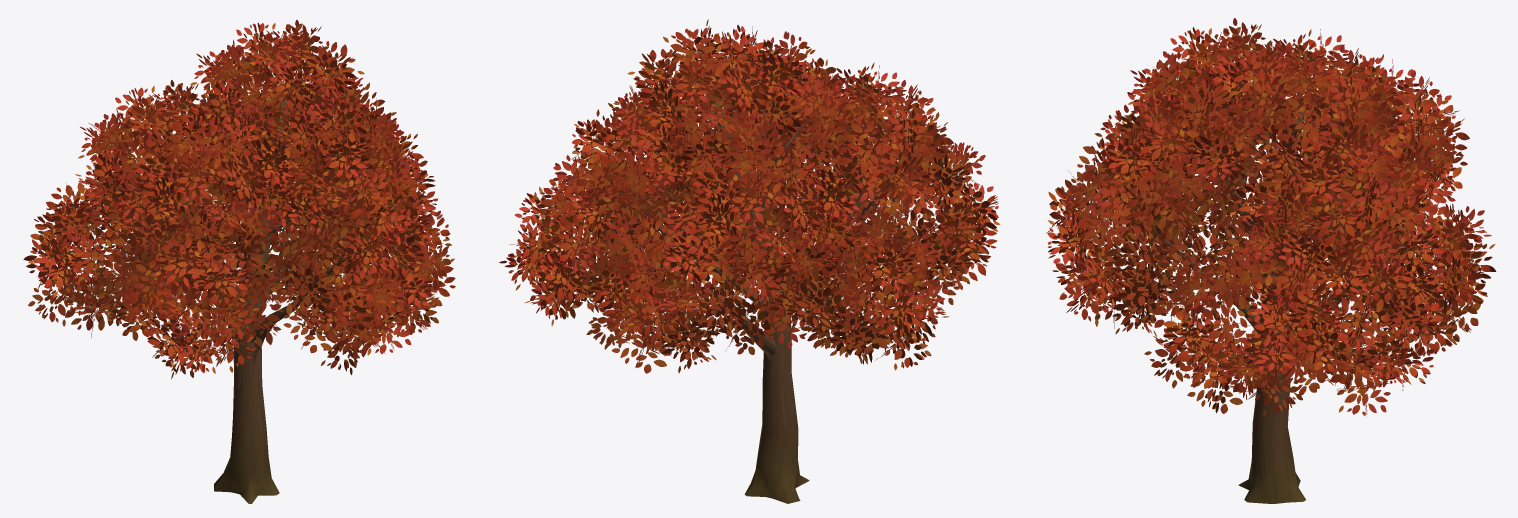
Rendered from FSF_Tree_001.FBX.
The picture shows the model from 3 angles, left to right: view 1: azimuth 30°, elevation 25°; view 2: azimuth 150°, elevation 25°; view 3: azimuth 270°, elevation 25°; orthographic projection. The views are drawn at different scales.
Parts seen in each view (by area): view 1: FSF_leaves_001, FSF_trunk_001; view 2: FSF_leaves_001, FSF_trunk_001; view 3: FSF_leaves_001, FSF_trunk_001.
Boxes of the visible parts, x1,y1,x2,y2 form: FSF_leaves_001: (23, 20, 455, 378); FSF_trunk_001: (131, 95, 347, 503); FSF_leaves_001: (499, 19, 1000, 373); FSF_trunk_001: (643, 95, 878, 503); FSF_leaves_001: (1046, 18, 1496, 416); FSF_trunk_001: (1138, 107, 1427, 503).
Bounding box in the file's own units: 342 × 360 × 316.
